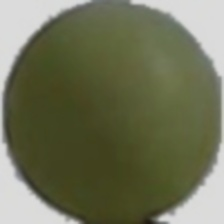grapes: (12, 17, 170, 206)
